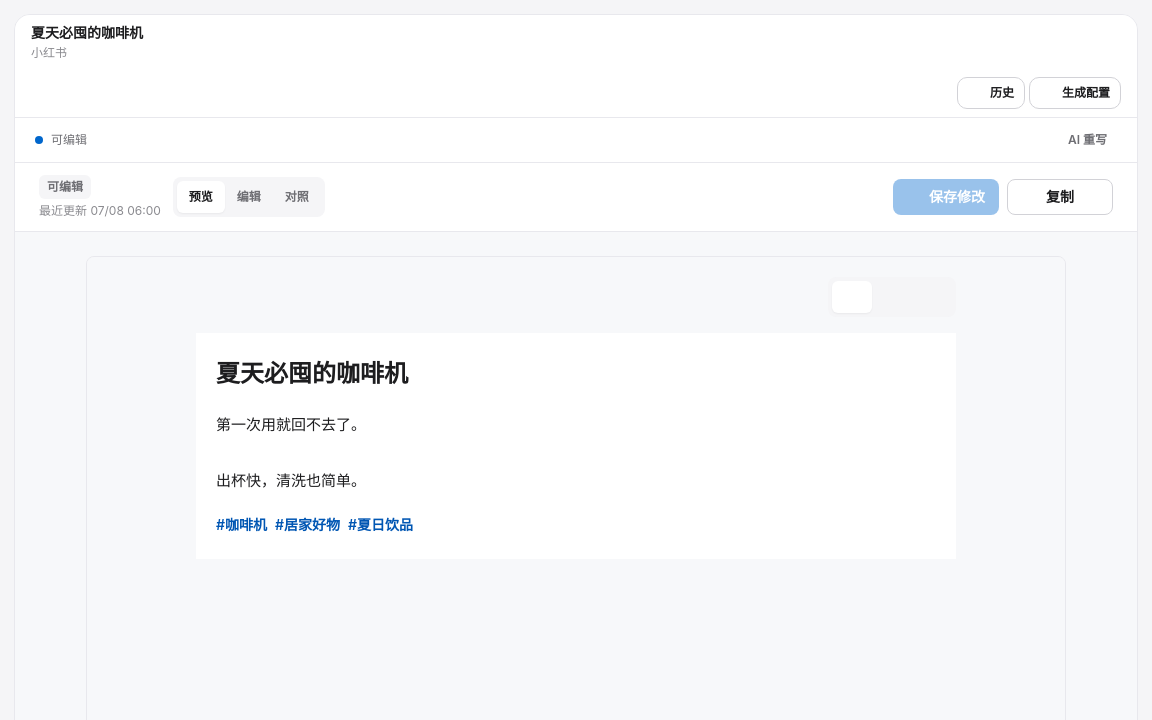
完成态按平台给不同的入口 › 切到编辑才出现可改的文案框，caption 平台连摘要格都没有
The width and height of the screenshot is (1152, 720).
What coordinates should you click on to do the following:
click the button "编辑"
I would click on:
 (249, 197)
Its box is [225,181,273,213].
(page scrolled)
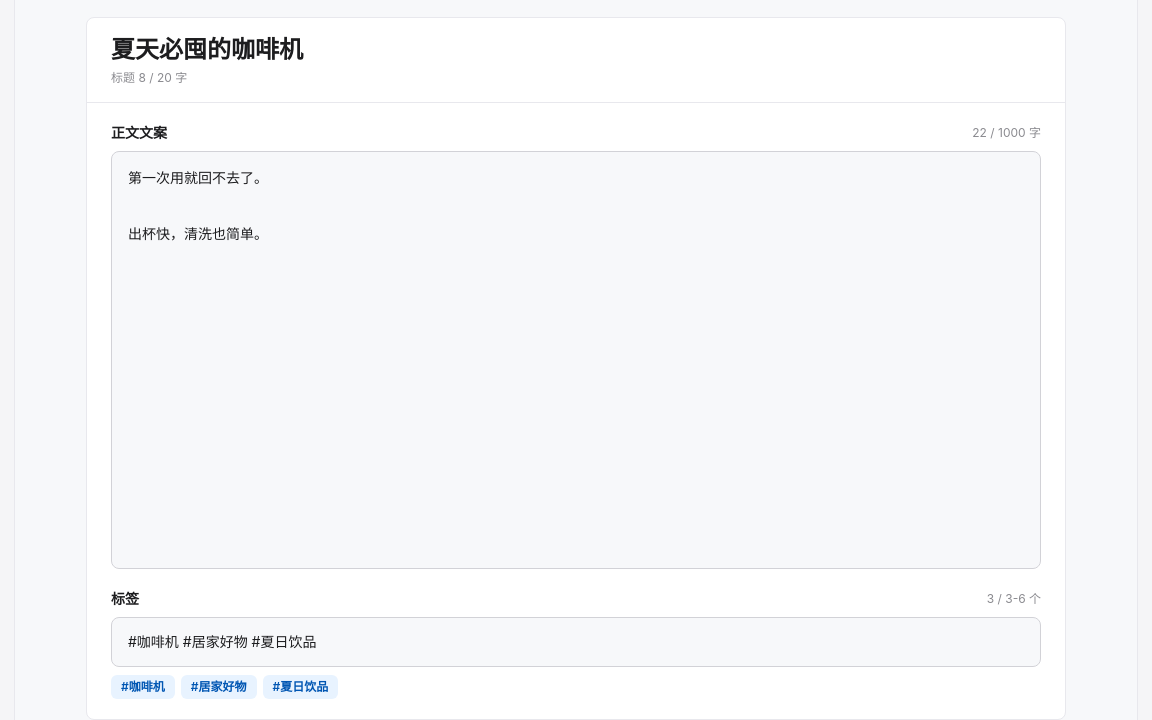
expect the field named "图文标题" holds "夏天必囤的咖啡机": met, box [111,34,1041,66]
